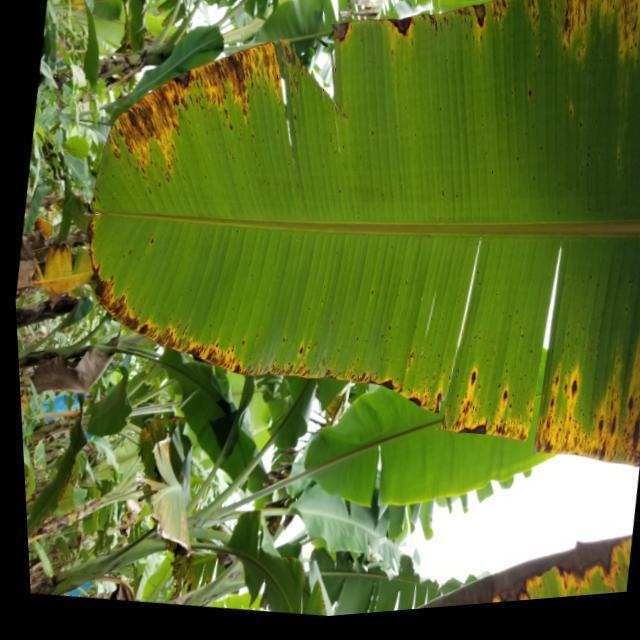Early_rust: (80, 0, 640, 461), (490, 525, 640, 609), (30, 196, 114, 298)
